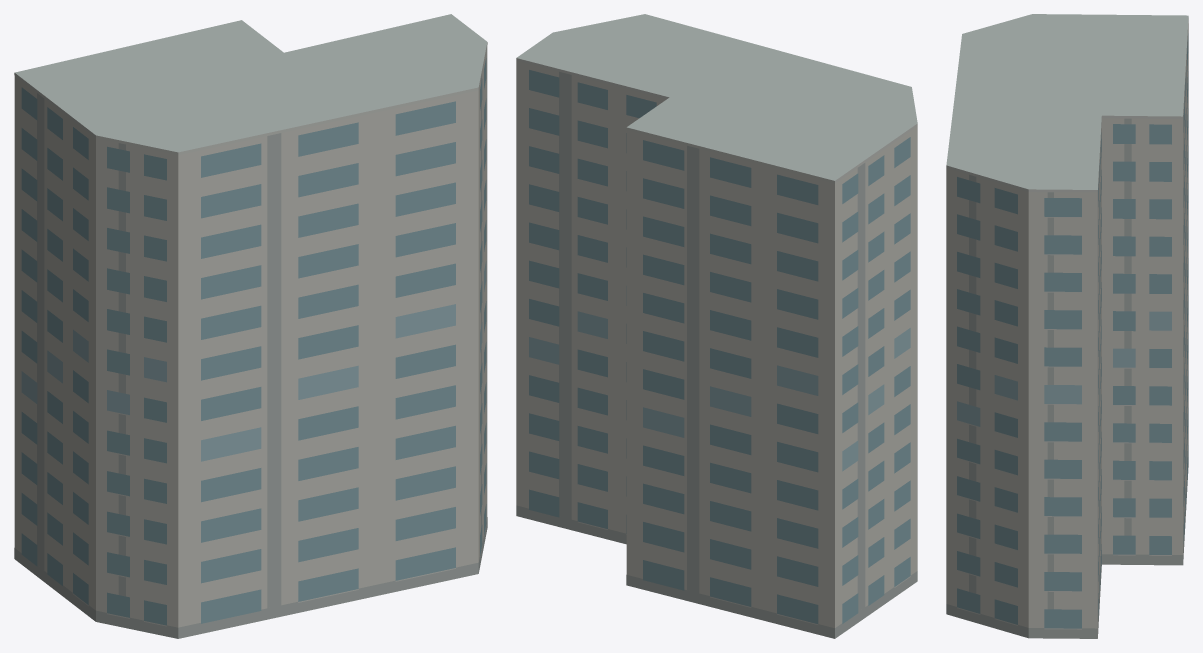
File: residential-11148c90-bb1c-410b-ae4b-6eeed90c21fb.glb
3 renders of one model, left to right at view 1: azimuth 30°, elevation 25°; view 2: azimuth 150°, elevation 25°; view 3: azimuth 270°, elevation 25°, orthographic. The views are drawn at different scales.
Parts seen in each view (by area): view 1: residential-11148c90-bb1c-410b-ae4b-6eeed90c21fb.tmp; view 2: residential-11148c90-bb1c-410b-ae4b-6eeed90c21fb.tmp; view 3: residential-11148c90-bb1c-410b-ae4b-6eeed90c21fb.tmp.
Part boxes in pixels (x1=…): residential-11148c90-bb1c-410b-ae4b-6eeed90c21fb.tmp: x1=14, y1=14, x2=487, y2=638; residential-11148c90-bb1c-410b-ae4b-6eeed90c21fb.tmp: x1=516, y1=14, x2=917, y2=638; residential-11148c90-bb1c-410b-ae4b-6eeed90c21fb.tmp: x1=946, y1=14, x2=1188, y2=638.
Size of the model in its own units: 34.49 by 41 by 20.06.
